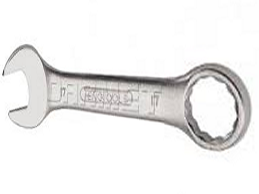wrench: (3, 39, 259, 151)
